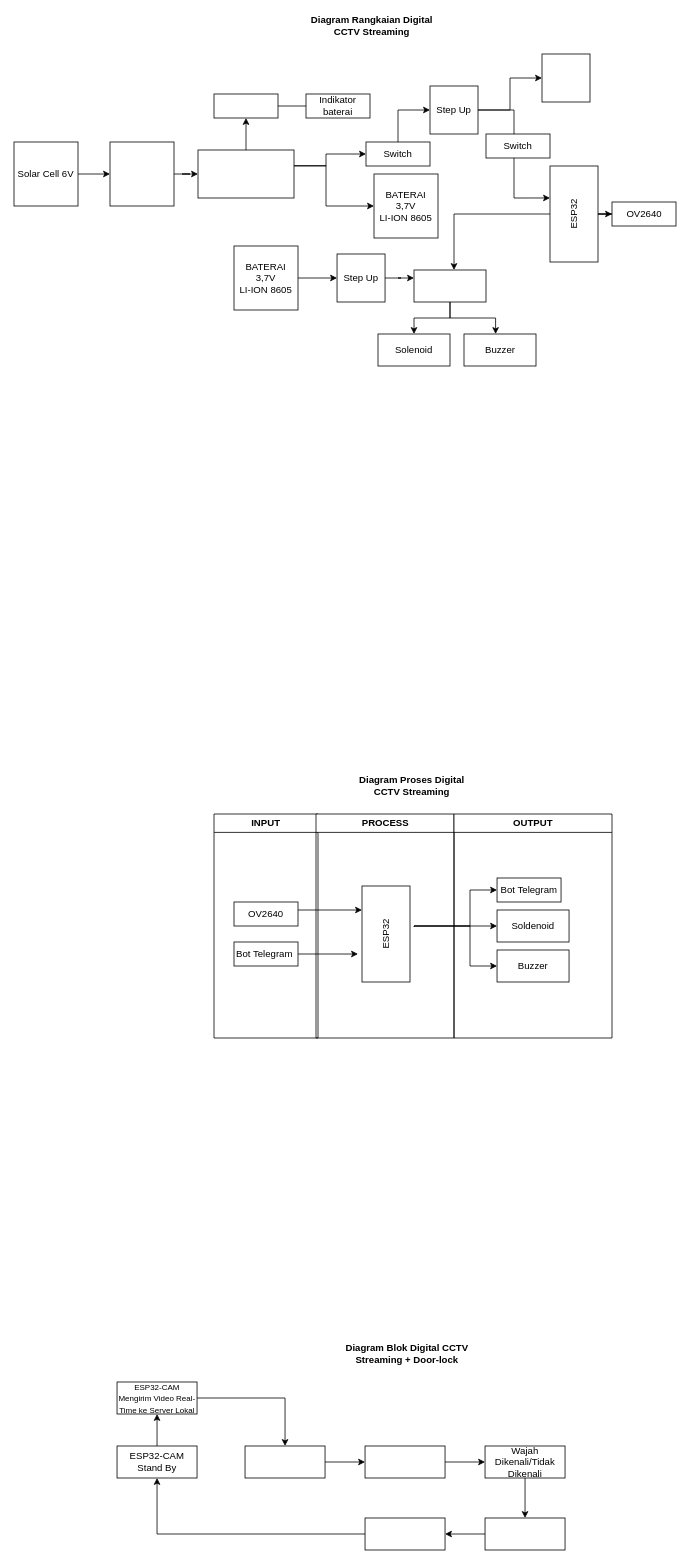
This 690x1564 diagram has some shape labels left out. Here are the shapes that lost their labels. From the top down, the centre of each, then its label:
the point at 565,77: Mini Kipas 12V
the point at 245,105: Push Button
the point at 141,173: Step Down
the point at 245,173: CHARGE MODULE TP4056 + STEP UP
the point at 449,285: Relay
the point at 284,1461: ESP32-CAM Mendeteksi Wajah
the point at 404,1461: ESP32-CAM Melakukan Pengenalan Wajah
the point at 404,1533: Menutup Solenoid dan buzzer
the point at 524,1533: Membuka Solenoid dan Buzzer
